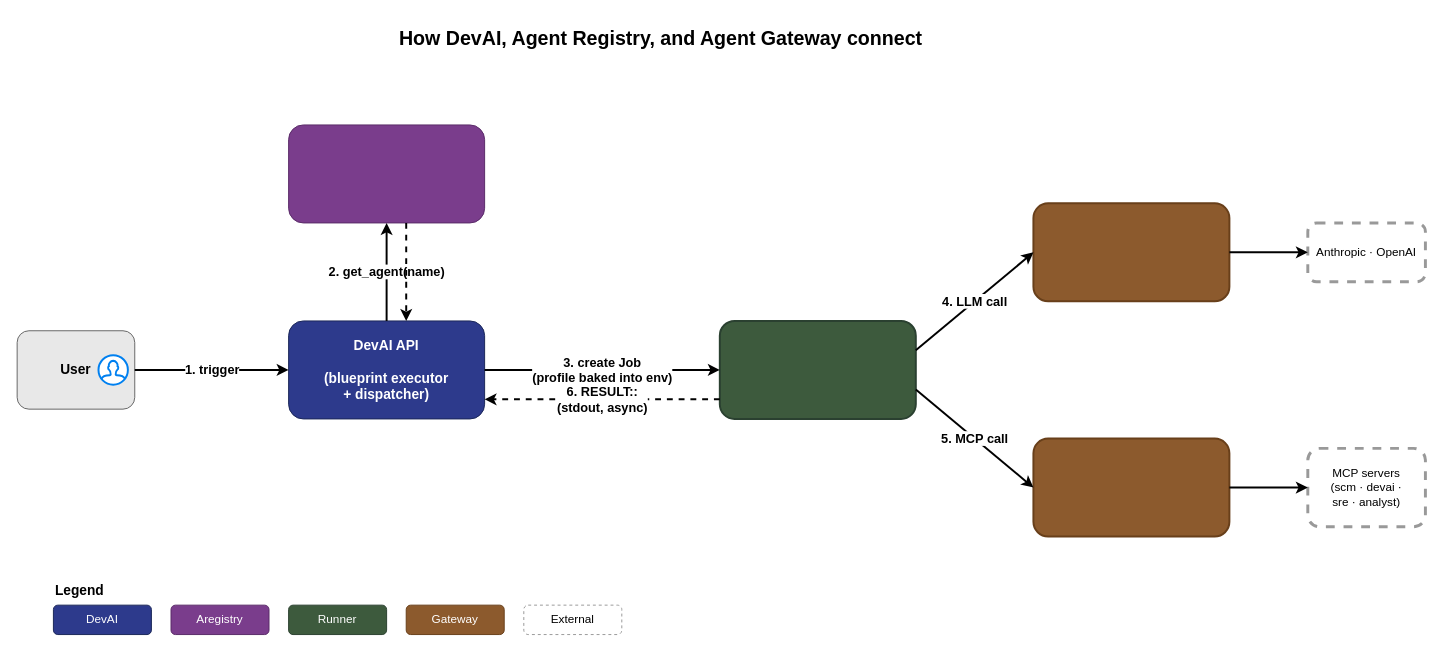
Image size: 1444x652. Some labels were removed from this diagram. The shapes that lost their labels are listed below. From the top down, each one's centre as x and y in pixels, then its label:
the point at 386,173: Agent Registry catalog of agents · skills · MCP · prompts
the point at 1131,252: AI Gateway LLM proxy (Anthropic / OpenAI)
the point at 817,369: Runner Pod (one per stage, ephemeral K8s Job)
the point at 1131,487: Agent Gateway MCP dispatch (solo.io)
